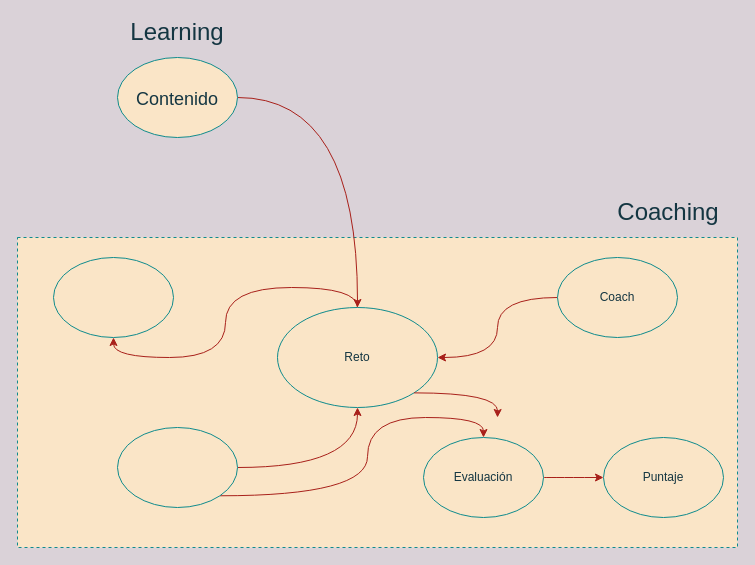
This 755x565 diagram has some shape labels left out. The shapes that lost their labels are listed below. From the top down, each one's box as (x1, y1, x2, y2) in pixels, then its label:
(52, 256, 174, 338): Sistema de Gestión de Versiones
(116, 426, 238, 508): Aprendiz
